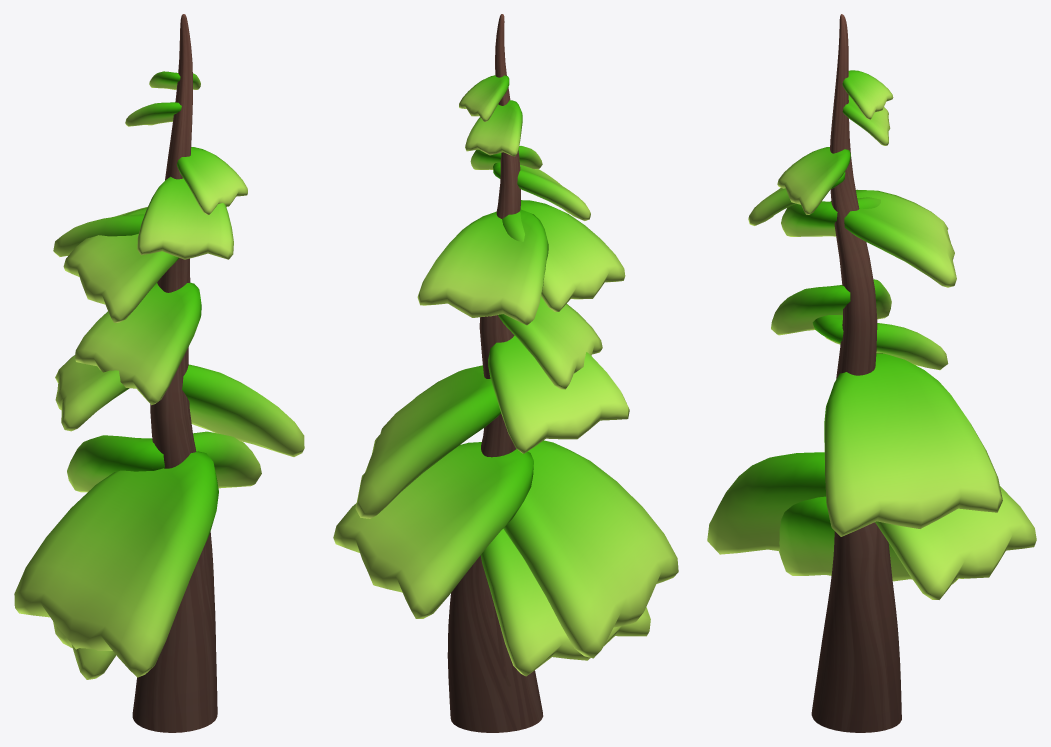
Rendered from arbol_2.fbx.
3 views of the same model, side by side, from view 1: azimuth 30°, elevation 25°; view 2: azimuth 150°, elevation 25°; view 3: azimuth 270°, elevation 25° (orthographic).
Visible parts, largest first — view 1: Arbol2|Hoja1.001|Dupli|11, Arbol2, Arbol2|Hoja1.001|Dupli|3, Arbol2|Hoja1.001|Dupli|8, Arbol2|Hoja1.001|Dupli|9, Arbol2|Hoja1.001|Dupli|6, Arbol2|Hoja1.001|Dupli|7, Arbol2|Hoja1.001|Dupli|2, Arbol2|Hoja1.001|Dupli|4, Arbol2|Hoja1.001|Dupli|5, Arbol2|Hoja1.001|Dupli|10, Arbol2|Hoja1.001|Dupli|1 (+1 smaller); view 2: Arbol2|Hoja1.001|Dupli|11, Arbol2|Hoja1.001|Dupli|9, Arbol2, Arbol2|Hoja1.001|Dupli|5, Arbol2|Hoja1.001|Dupli|8, Arbol2|Hoja1.001|Dupli|2, Arbol2|Hoja1.001|Dupli|10, Arbol2|Hoja1.001|Dupli|6, Arbol2|Hoja1.001|Dupli|3, Arbol2|Hoja1.001|Dupli|1, Arbol2|Hoja1.001|Dupli|7, Arbol2|Hoja1.001|Dupli| (+1 smaller); view 3: Arbol2|Hoja1.001|Dupli|8, Arbol2, Arbol2|Hoja1.001|Dupli|9, Arbol2|Hoja1.001|Dupli|11, Arbol2|Hoja1.001|Dupli|5, Arbol2|Hoja1.001|Dupli|10, Arbol2|Hoja1.001|Dupli|3, Arbol2|Hoja1.001|Dupli|4, Arbol2|Hoja1.001|Dupli|2, Arbol2|Hoja1.001|Dupli|6, Arbol2|Hoja1.001|Dupli|, Arbol2|Hoja1.001|Dupli|1 (+1 smaller).
Boxes of the visible parts, x1,y1,x2,y2 form: Arbol2|Hoja1.001|Dupli|11: (14, 451, 218, 677); Arbol2: (132, 14, 217, 732); Arbol2|Hoja1.001|Dupli|3: (75, 282, 201, 405); Arbol2|Hoja1.001|Dupli|8: (182, 364, 304, 456); Arbol2|Hoja1.001|Dupli|9: (67, 431, 261, 492); Arbol2|Hoja1.001|Dupli|6: (63, 208, 179, 322); Arbol2|Hoja1.001|Dupli|7: (137, 176, 233, 259); Arbol2|Hoja1.001|Dupli|2: (55, 355, 129, 431); Arbol2|Hoja1.001|Dupli|4: (177, 147, 247, 214); Arbol2|Hoja1.001|Dupli|5: (53, 207, 147, 256); Arbol2|Hoja1.001|Dupli|10: (53, 621, 116, 679); Arbol2|Hoja1.001|Dupli|1: (125, 102, 181, 126); Arbol2|Hoja1.001|Dupli|11: (503, 440, 678, 658); Arbol2|Hoja1.001|Dupli|9: (333, 442, 533, 618); Arbol2: (447, 14, 543, 732); Arbol2|Hoja1.001|Dupli|5: (417, 209, 548, 325); Arbol2|Hoja1.001|Dupli|8: (355, 365, 500, 518); Arbol2|Hoja1.001|Dupli|2: (488, 335, 629, 453); Arbol2|Hoja1.001|Dupli|10: (480, 529, 650, 676); Arbol2|Hoja1.001|Dupli|6: (502, 200, 625, 311); Arbol2|Hoja1.001|Dupli|3: (498, 296, 602, 389); Arbol2|Hoja1.001|Dupli|1: (465, 100, 522, 156); Arbol2|Hoja1.001|Dupli|7: (493, 162, 590, 220); Arbol2|Hoja1.001|Dupli|: (459, 75, 509, 121); Arbol2|Hoja1.001|Dupli|8: (824, 353, 1002, 536); Arbol2: (811, 14, 901, 732); Arbol2|Hoja1.001|Dupli|9: (875, 486, 1036, 599); Arbol2|Hoja1.001|Dupli|11: (707, 452, 825, 554); Arbol2|Hoja1.001|Dupli|5: (830, 189, 956, 287); Arbol2|Hoja1.001|Dupli|10: (779, 496, 958, 584); Arbol2|Hoja1.001|Dupli|3: (771, 279, 891, 335); Arbol2|Hoja1.001|Dupli|4: (777, 147, 850, 214); Arbol2|Hoja1.001|Dupli|2: (812, 315, 948, 370); Arbol2|Hoja1.001|Dupli|6: (781, 197, 880, 236); Arbol2|Hoja1.001|Dupli|: (842, 70, 893, 119); Arbol2|Hoja1.001|Dupli|1: (842, 95, 890, 145).
Bounding box in the file's own units: 403 × 1056 × 450.
